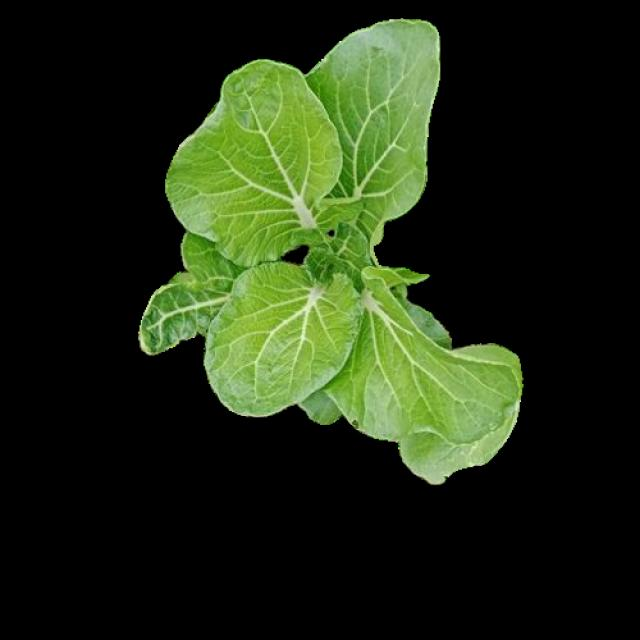mature: (140, 21, 520, 487)
unhealthy: (138, 225, 256, 355)
